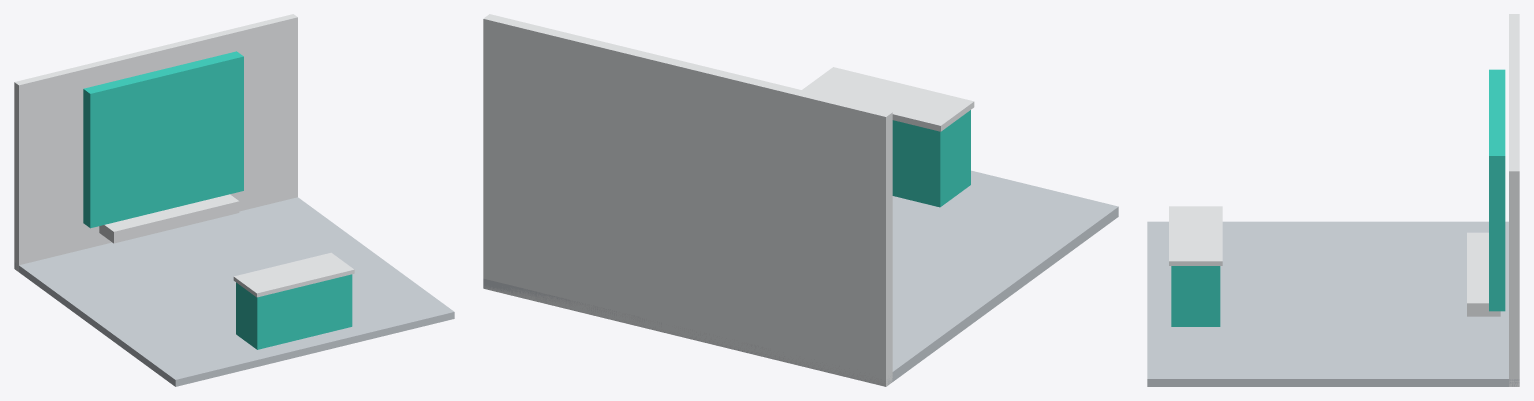
3 views of the same model, side by side, from view 1: azimuth 30°, elevation 25°; view 2: azimuth 150°, elevation 25°; view 3: azimuth 270°, elevation 25° (orthographic). The views are drawn at different scales.
Parts seen in each view (by area): view 1: Exhibition Booth Concept; view 2: Exhibition Booth Concept; view 3: Exhibition Booth Concept.
Boxes of the visible parts, bbox=[...] form: Exhibition Booth Concept: bbox=[14, 14, 454, 386]; Exhibition Booth Concept: bbox=[483, 14, 1118, 386]; Exhibition Booth Concept: bbox=[1147, 14, 1519, 386].
Size of the model in its own units: 5 by 3.2 by 5.
